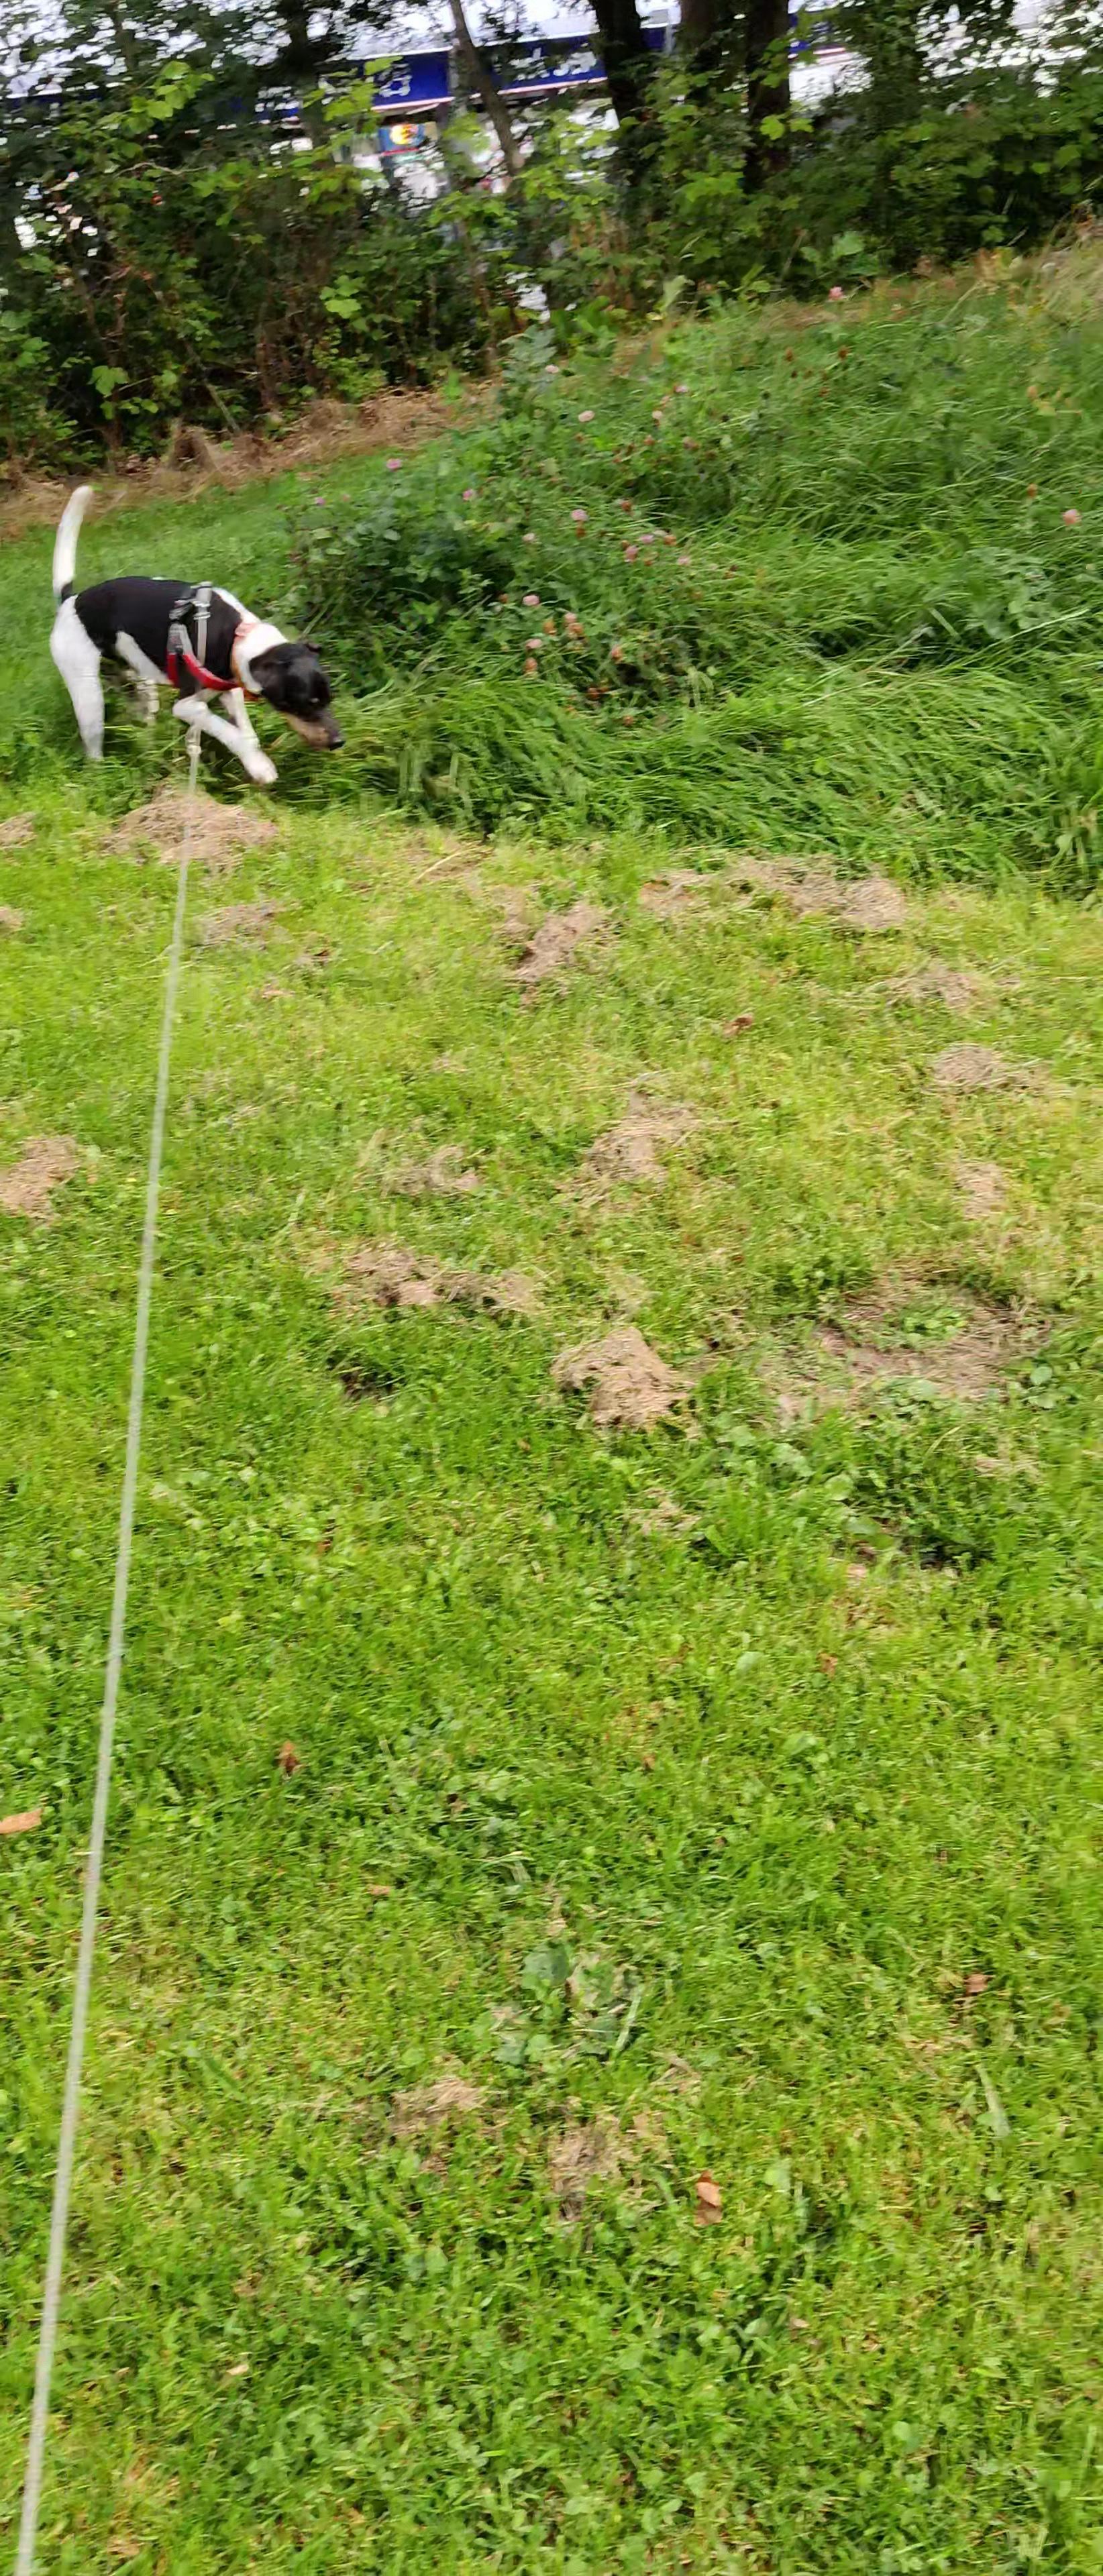Dog: (33, 467, 362, 793)
